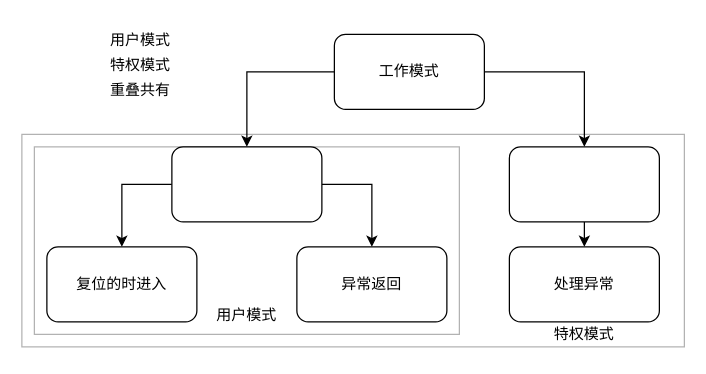
Some shapes in this 706 by 374 pixel diagram are drawn without their labels. Here are the shapes that lost their labels. From the top down, the box of each, then its label:
(171, 146, 322, 222): 线程模式
(508, 146, 659, 222): 处理模式
